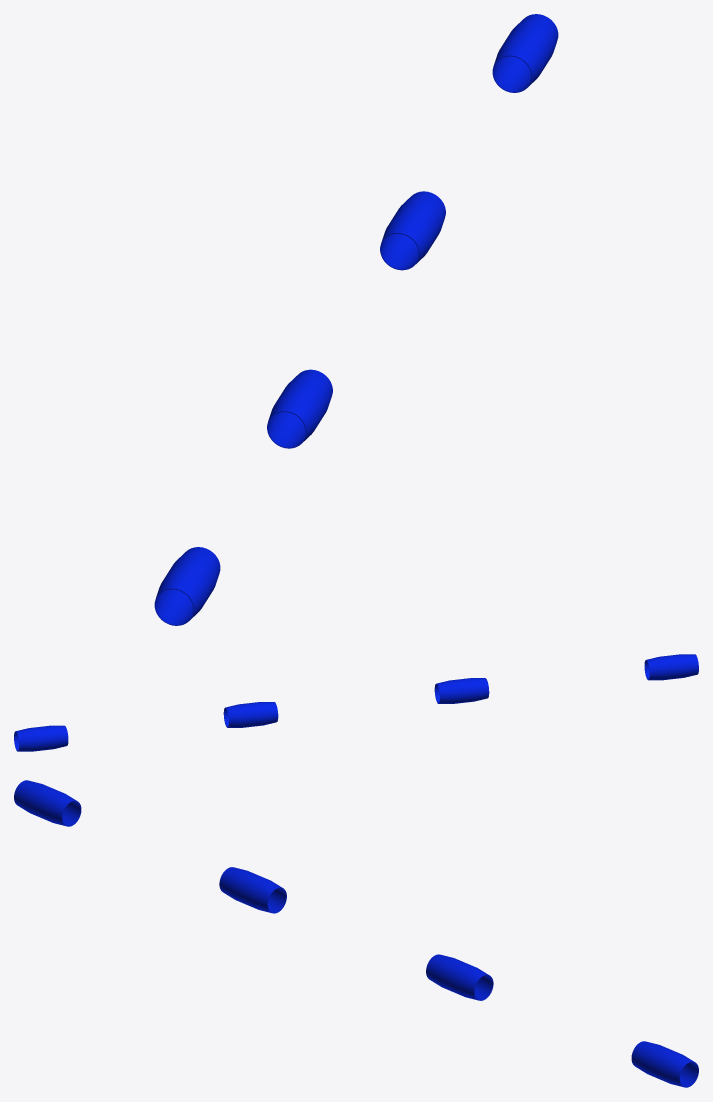
Rendered from LEDS 2fixfix.fbx.
3 views of the same model, one above another, from view 1: azimuth 30°, elevation 25°; view 2: azimuth 150°, elevation 25°; view 3: azimuth 270°, elevation 25° (orthographic). The views are drawn at different scales.
Visible parts, largest first — view 1: Lights_MK2.001, Lights_MK2.002, Lights_MK2.003, Lights_MK2.004; view 2: Lights_MK2.001, Lights_MK2.002, Lights_MK2.003, Lights_MK2.004; view 3: Lights_MK2.003, Lights_MK2.004, Lights_MK2.001, Lights_MK2.002.
Boxes of the visible parts, x1=… form: Lights_MK2.001: x1=154, y1=547, x2=220, y2=625; Lights_MK2.002: x1=492, y1=14, x2=558, y2=92; Lights_MK2.003: x1=380, y1=191, x2=445, y2=270; Lights_MK2.004: x1=267, y1=369, x2=332, y2=448; Lights_MK2.001: x1=644, y1=654, x2=698, y2=680; Lights_MK2.002: x1=14, y1=725, x2=68, y2=751; Lights_MK2.003: x1=223, y1=702, x2=278, y2=727; Lights_MK2.004: x1=434, y1=678, x2=489, y2=703; Lights_MK2.003: x1=426, y1=954, x2=493, y2=1000; Lights_MK2.004: x1=219, y1=867, x2=286, y2=913; Lights_MK2.001: x1=14, y1=780, x2=81, y2=826; Lights_MK2.002: x1=631, y1=1041, x2=698, y2=1087.
Size of the model in its own units: 64.05 by 2.97 by 64.05.
